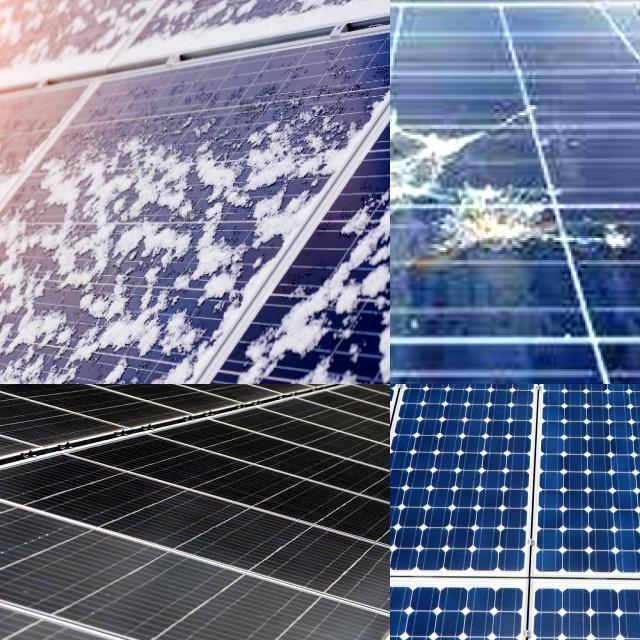bird: (390, 96, 485, 198), (428, 193, 556, 262), (582, 214, 640, 255), (390, 225, 424, 273), (390, 357, 406, 383)
crack: (0, 384, 390, 640), (0, 451, 390, 639), (47, 419, 390, 569), (390, 384, 576, 596), (390, 384, 545, 608), (504, 384, 640, 602), (390, 557, 552, 640), (407, 384, 557, 467), (524, 384, 640, 470), (390, 384, 479, 482)
panel: (245, 99, 342, 244), (137, 140, 243, 252), (136, 267, 240, 360), (295, 278, 372, 384), (42, 146, 144, 222), (22, 219, 117, 297), (37, 344, 163, 384), (61, 310, 150, 366), (99, 0, 188, 56), (343, 194, 390, 300), (0, 0, 86, 56), (0, 235, 55, 321), (226, 321, 294, 384), (0, 308, 54, 384), (302, 0, 390, 37), (0, 239, 42, 312), (0, 0, 42, 71), (0, 312, 40, 384), (0, 176, 53, 230), (201, 0, 301, 24), (105, 0, 197, 26), (215, 0, 285, 26), (0, 326, 34, 372)
